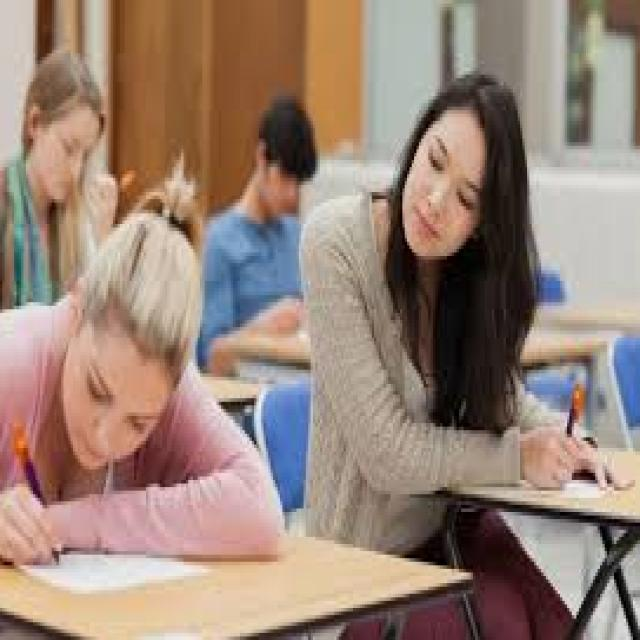cheating: (269, 36, 640, 560)
good: (0, 185, 275, 606)
